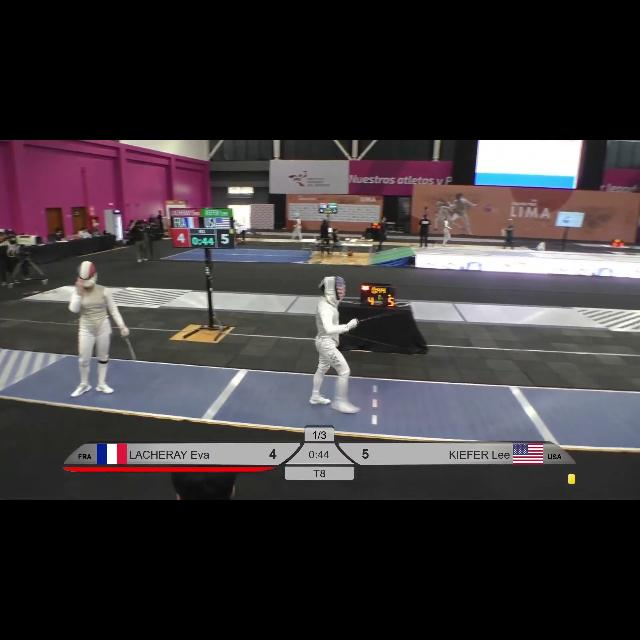blade: (121, 330, 141, 370), (354, 310, 398, 326)
